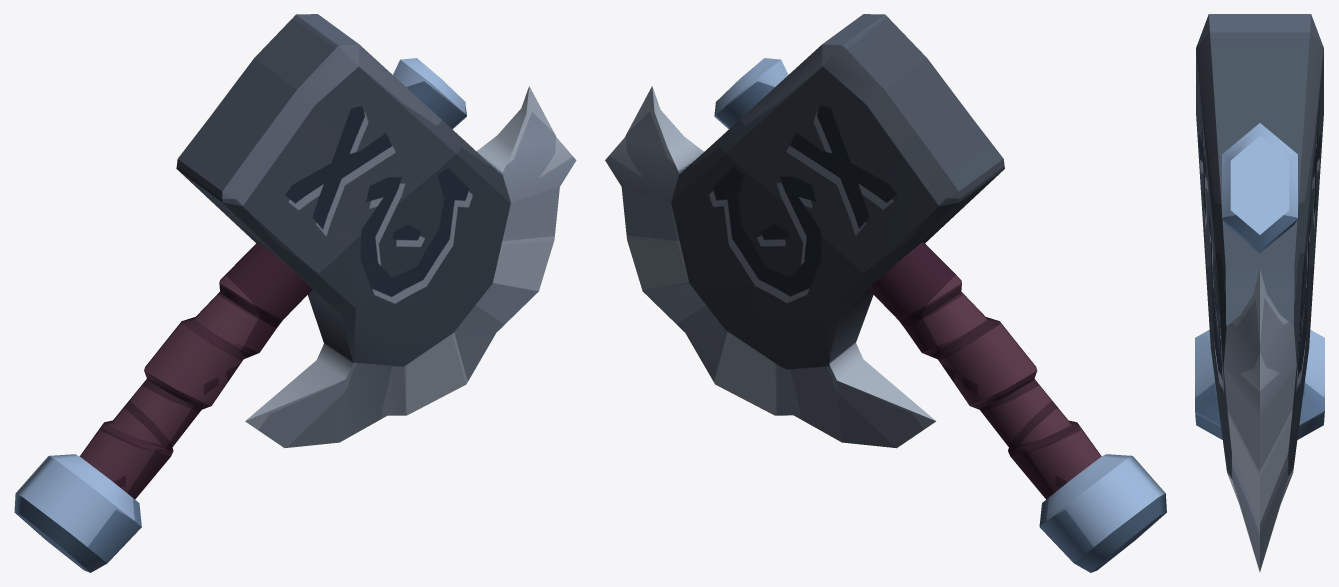
File: Rune_03.FBX
3 renders of one model, left to right at view 1: azimuth 30°, elevation 25°; view 2: azimuth 150°, elevation 25°; view 3: azimuth 270°, elevation 25°, orthographic. The views are drawn at different scales.
Visible parts, largest first — view 1: Rune_03; view 2: Rune_03; view 3: Rune_03.
Boxes of the visible parts, x1=… form: Rune_03: x1=14, y1=14, x2=576, y2=572; Rune_03: x1=605, y1=14, x2=1166, y2=572; Rune_03: x1=1195, y1=14, x2=1324, y2=572.
Size of the model in its own units: 75.13 by 62.51 by 12.63.
